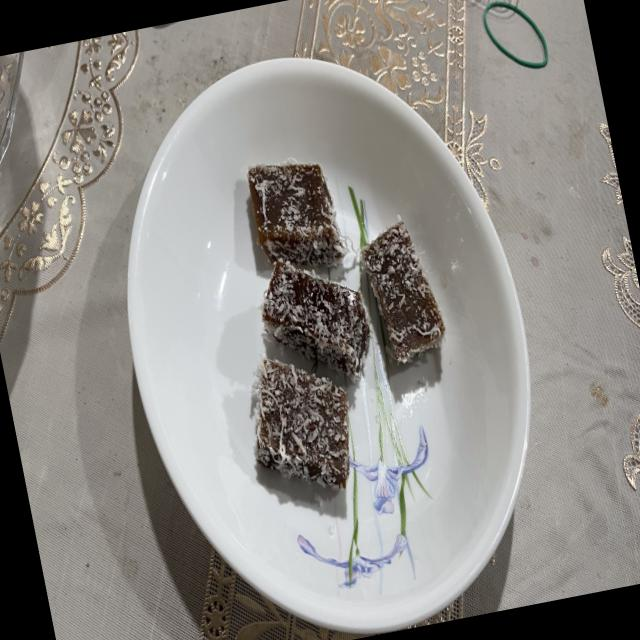kaswi: (262, 259, 370, 379), (253, 358, 350, 489), (362, 221, 445, 363), (248, 163, 346, 266)
